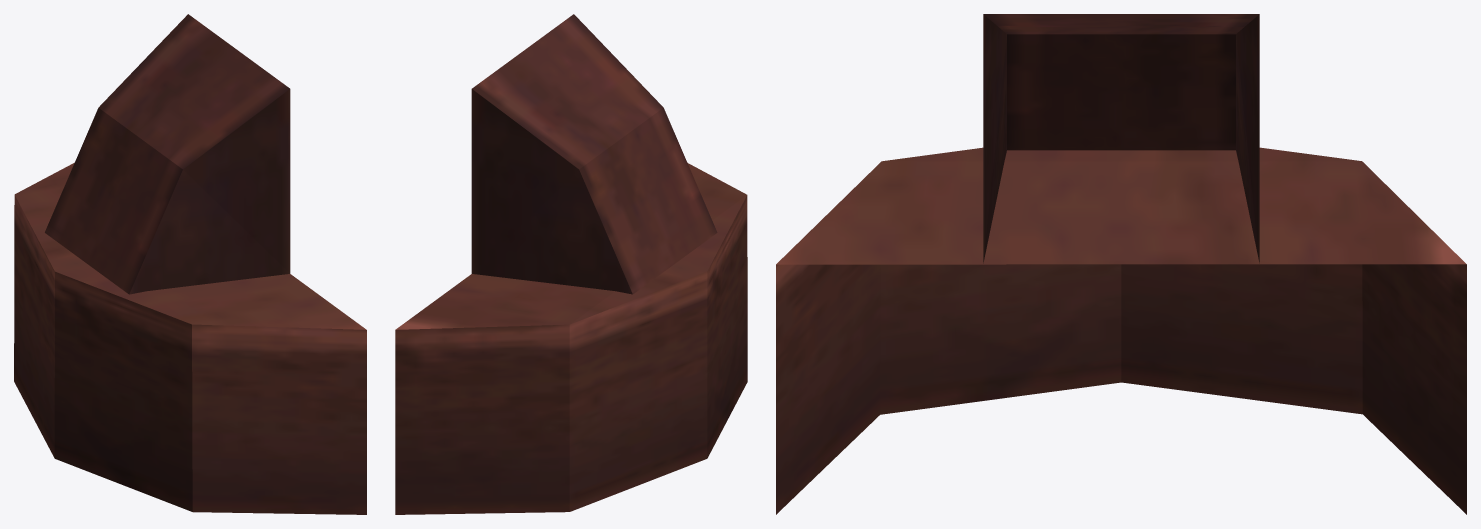
Rendered from lava_railing_end_01.fbx.
The picture shows the model from 3 angles, left to right: view 1: azimuth 30°, elevation 25°; view 2: azimuth 150°, elevation 25°; view 3: azimuth 270°, elevation 25°; orthographic projection. The views are drawn at different scales.
Parts seen in each view (by area): view 1: obj0.119; view 2: obj0.119; view 3: obj0.119.
Part boxes in pixels (x1,y1,x2,y2): obj0.119: (14, 14, 366, 514); obj0.119: (395, 14, 747, 514); obj0.119: (776, 14, 1466, 514).
Bounding box in the file's own units: 0.5216 × 1 × 1.25.
